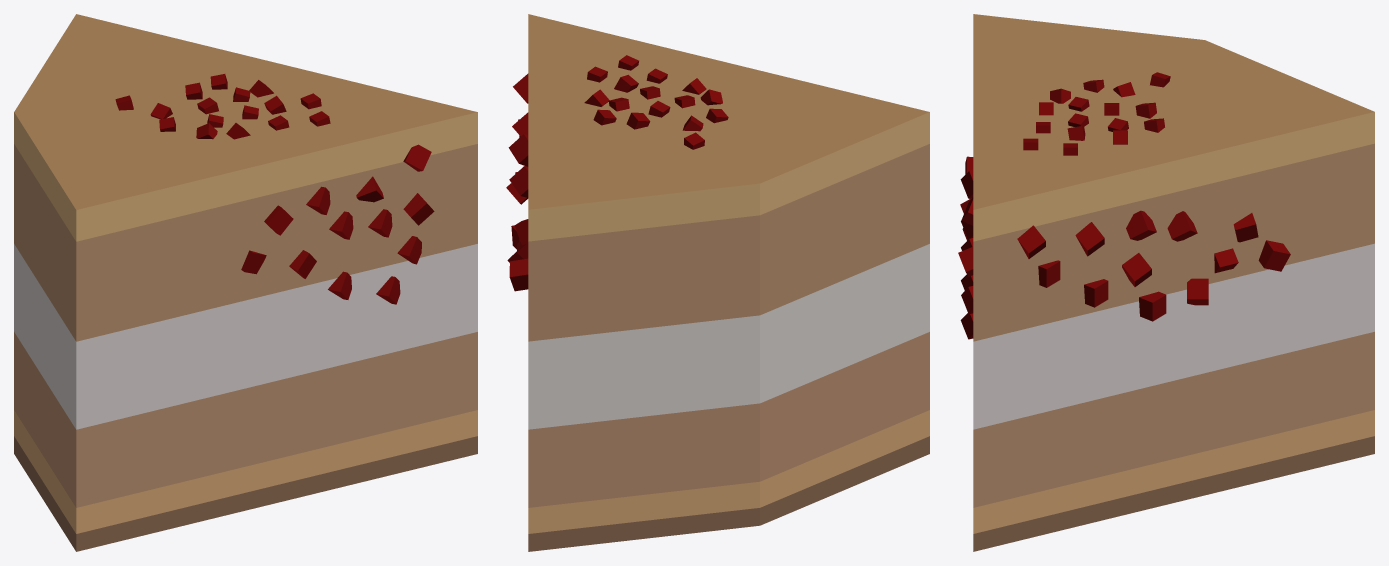
Rendered from Cake.fbx.
The picture shows the model from 3 angles, left to right: view 1: azimuth 30°, elevation 25°; view 2: azimuth 150°, elevation 25°; view 3: azimuth 270°, elevation 25°; orthographic projection.
Visible parts, largest first — view 1: polySurface43; view 2: polySurface43; view 3: polySurface43.
Boxes of the visible parts, bbox=[...] form: polySurface43: bbox=[14, 14, 477, 551]; polySurface43: bbox=[506, 14, 929, 551]; polySurface43: bbox=[958, 14, 1374, 551].
Bounding box in the file's own units: 1 × 0.8431 × 0.8987.
